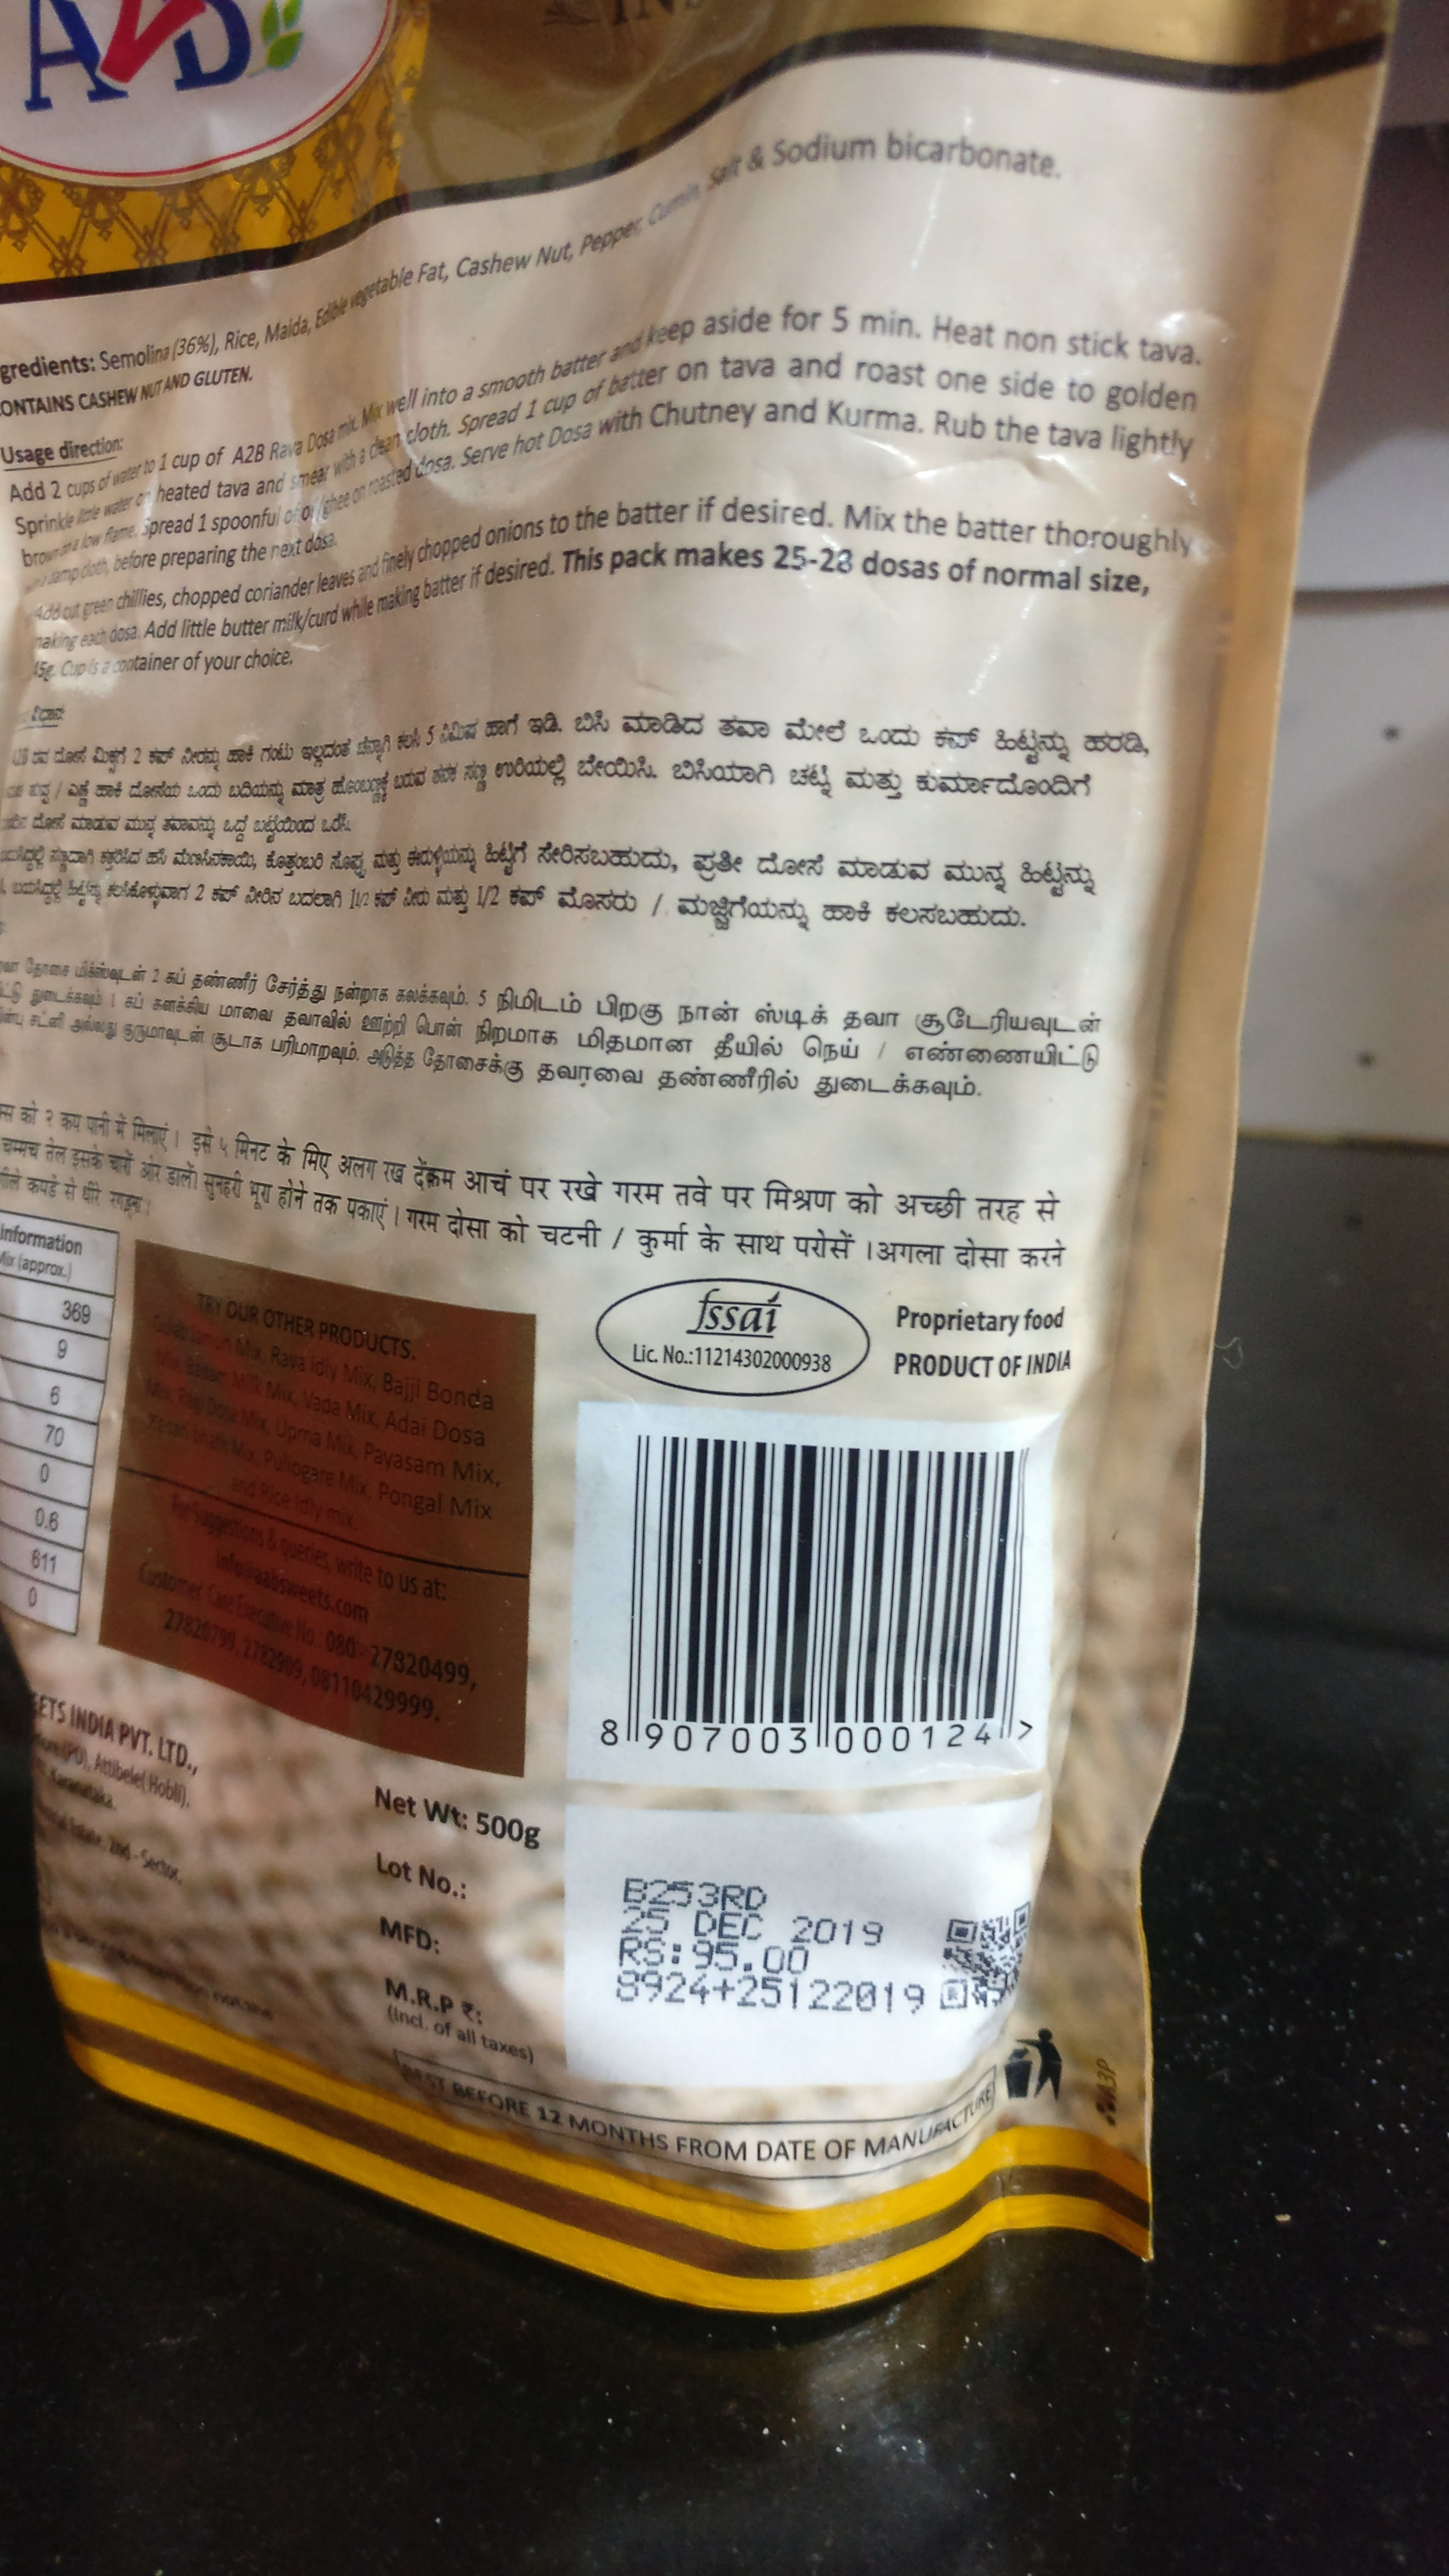barcode: (612, 1435, 1039, 1762)
